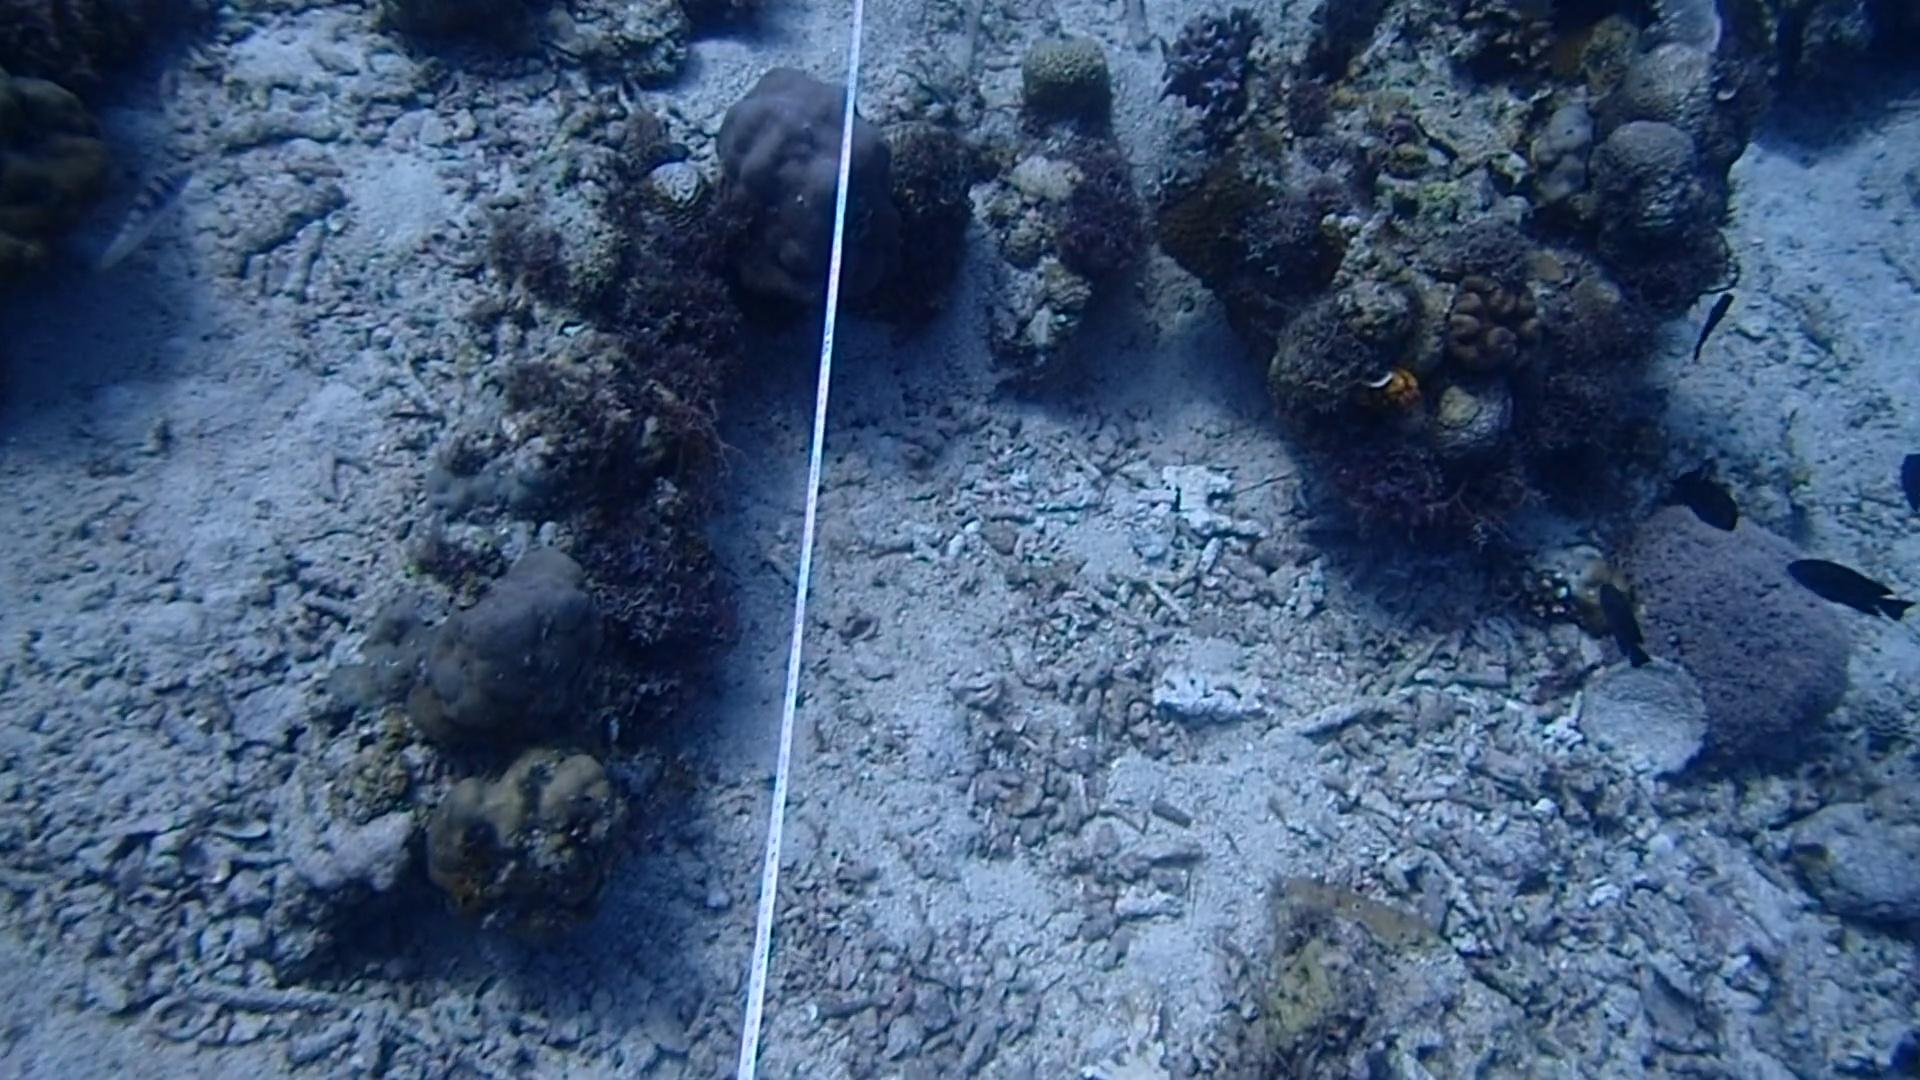Dark Fish: (1782, 547, 1912, 630), (1577, 564, 1667, 674), (1640, 459, 1735, 541), (1759, 0, 1815, 102), (1679, 274, 1741, 363), (1891, 444, 1920, 520)
Light Fish w Back Stripes: (80, 152, 210, 264)
